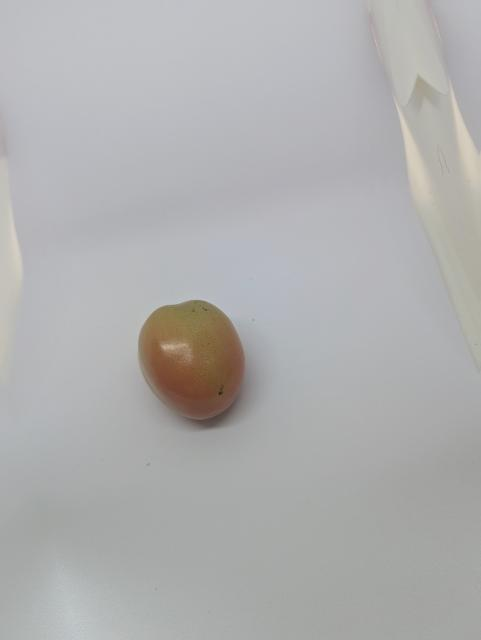turning: (133, 294, 255, 421)
